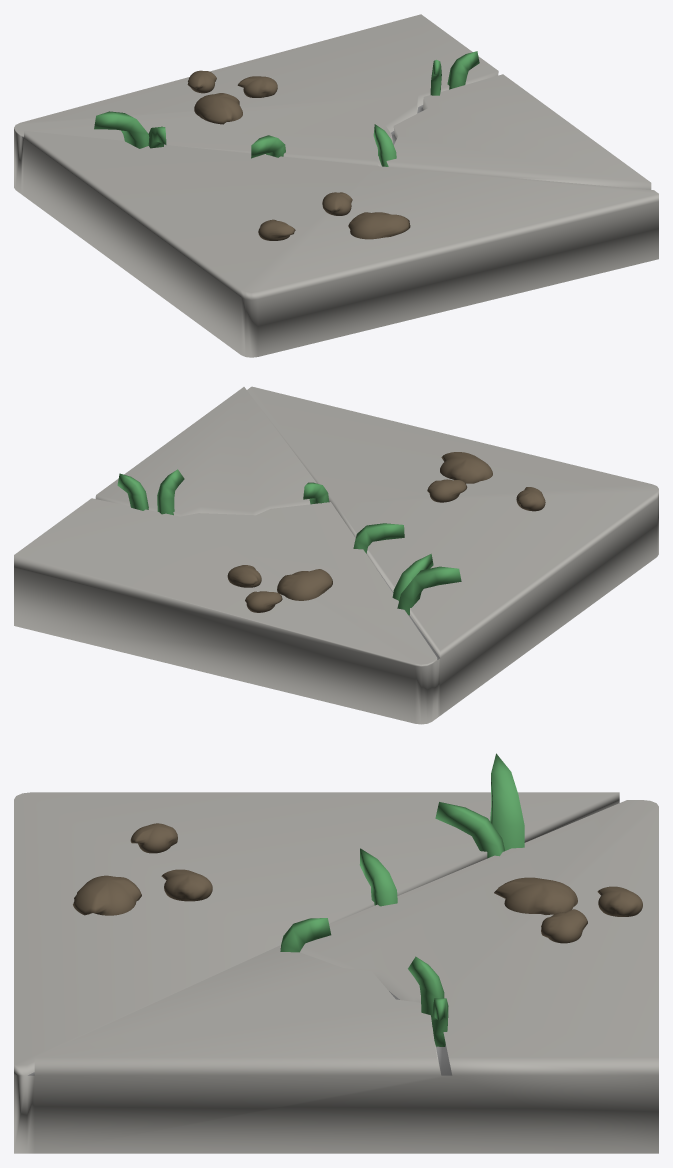
File: SideWalkPlain.fbx
3 views of the same model, one above another, from view 1: azimuth 30°, elevation 25°; view 2: azimuth 150°, elevation 25°; view 3: azimuth 270°, elevation 25° (orthographic). The views are drawn at different scales.
Parts seen in each view (by area): view 1: sidewalktilePlain, StoneSideWalk.002, StoneSideWalk, GrassSideWalk2, GrassSideWalk3, GrassSideWalk7, GrassSudeWalk5; view 2: sidewalktilePlain, StoneSideWalk, StoneSideWalk.002, GrassSideWalk2, GrassSideWalk3, GrassSideWalk7; view 3: sidewalktilePlain, StoneSideWalk, StoneSideWalk.002, GrassSideWalk2, GrassSideWalk3, GrassSideWalk7, GrassSudeWalk5.
Part boxes in pixels (x1,y1,x2,y2): sidewalktilePlain: (14, 14, 658, 357); StoneSideWalk.002: (258, 192, 410, 240); StoneSideWalk: (187, 70, 277, 124); GrassSideWalk2: (94, 111, 166, 148); GrassSideWalk3: (430, 51, 479, 95); GrassSideWalk7: (251, 135, 285, 158); GrassSudeWalk5: (373, 124, 396, 166); sidewalktilePlain: (14, 386, 658, 724); StoneSideWalk: (227, 565, 332, 612); StoneSideWalk.002: (427, 452, 545, 511); GrassSideWalk2: (392, 553, 461, 615); GrassSideWalk3: (117, 469, 184, 515); GrassSideWalk7: (353, 523, 404, 553); sidewalktilePlain: (14, 792, 658, 1153); StoneSideWalk: (494, 877, 642, 943); StoneSideWalk.002: (73, 823, 212, 915); GrassSideWalk2: (435, 753, 524, 858); GrassSideWalk3: (408, 956, 448, 1046); GrassSideWalk7: (359, 848, 397, 906); GrassSudeWalk5: (280, 918, 331, 952).
Size of the model in its own units: 1 by 0.2535 by 1.
